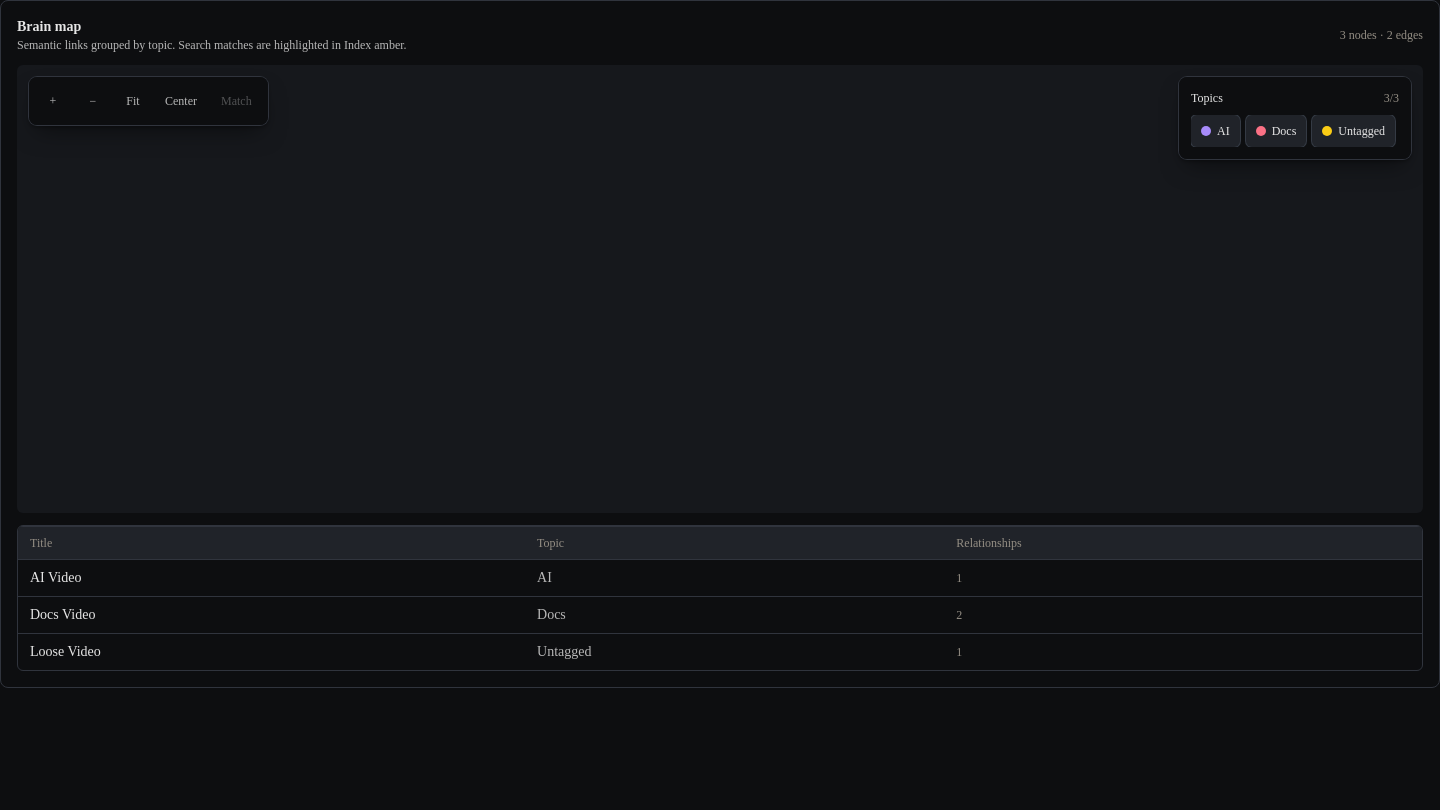
Test: BrainGraph › BrainNodeList (§3 accessibility handoff) › hides a node from the list when its topic is toggled off, in sync with the canvas
The width and height of the screenshot is (1440, 810).
Expected: the link "Docs Video" is shown, [30,607,95,622]
Click the button "Docs" at (1276, 131), box [1246,115,1306,147]
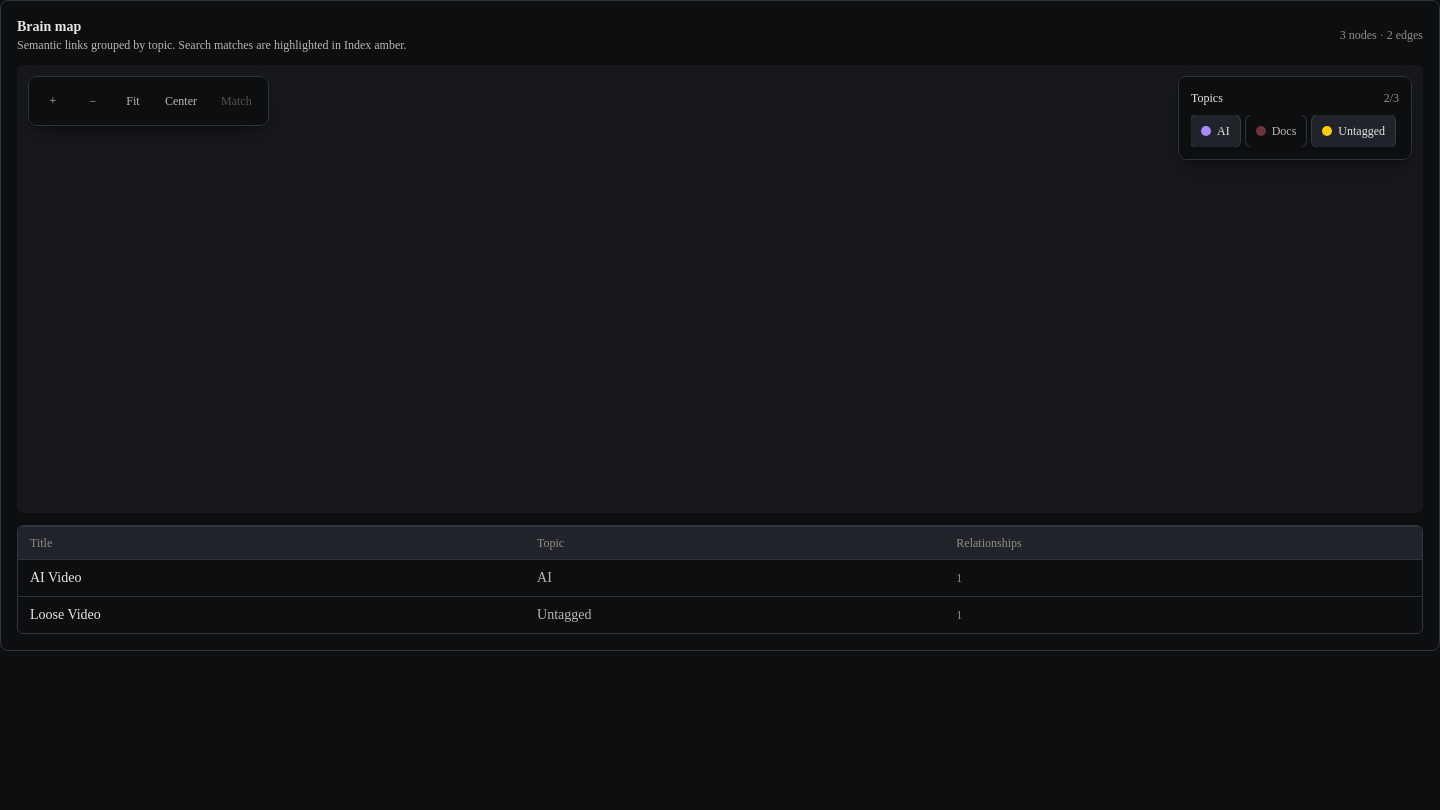
Expected: the link "Docs Video" is gone
